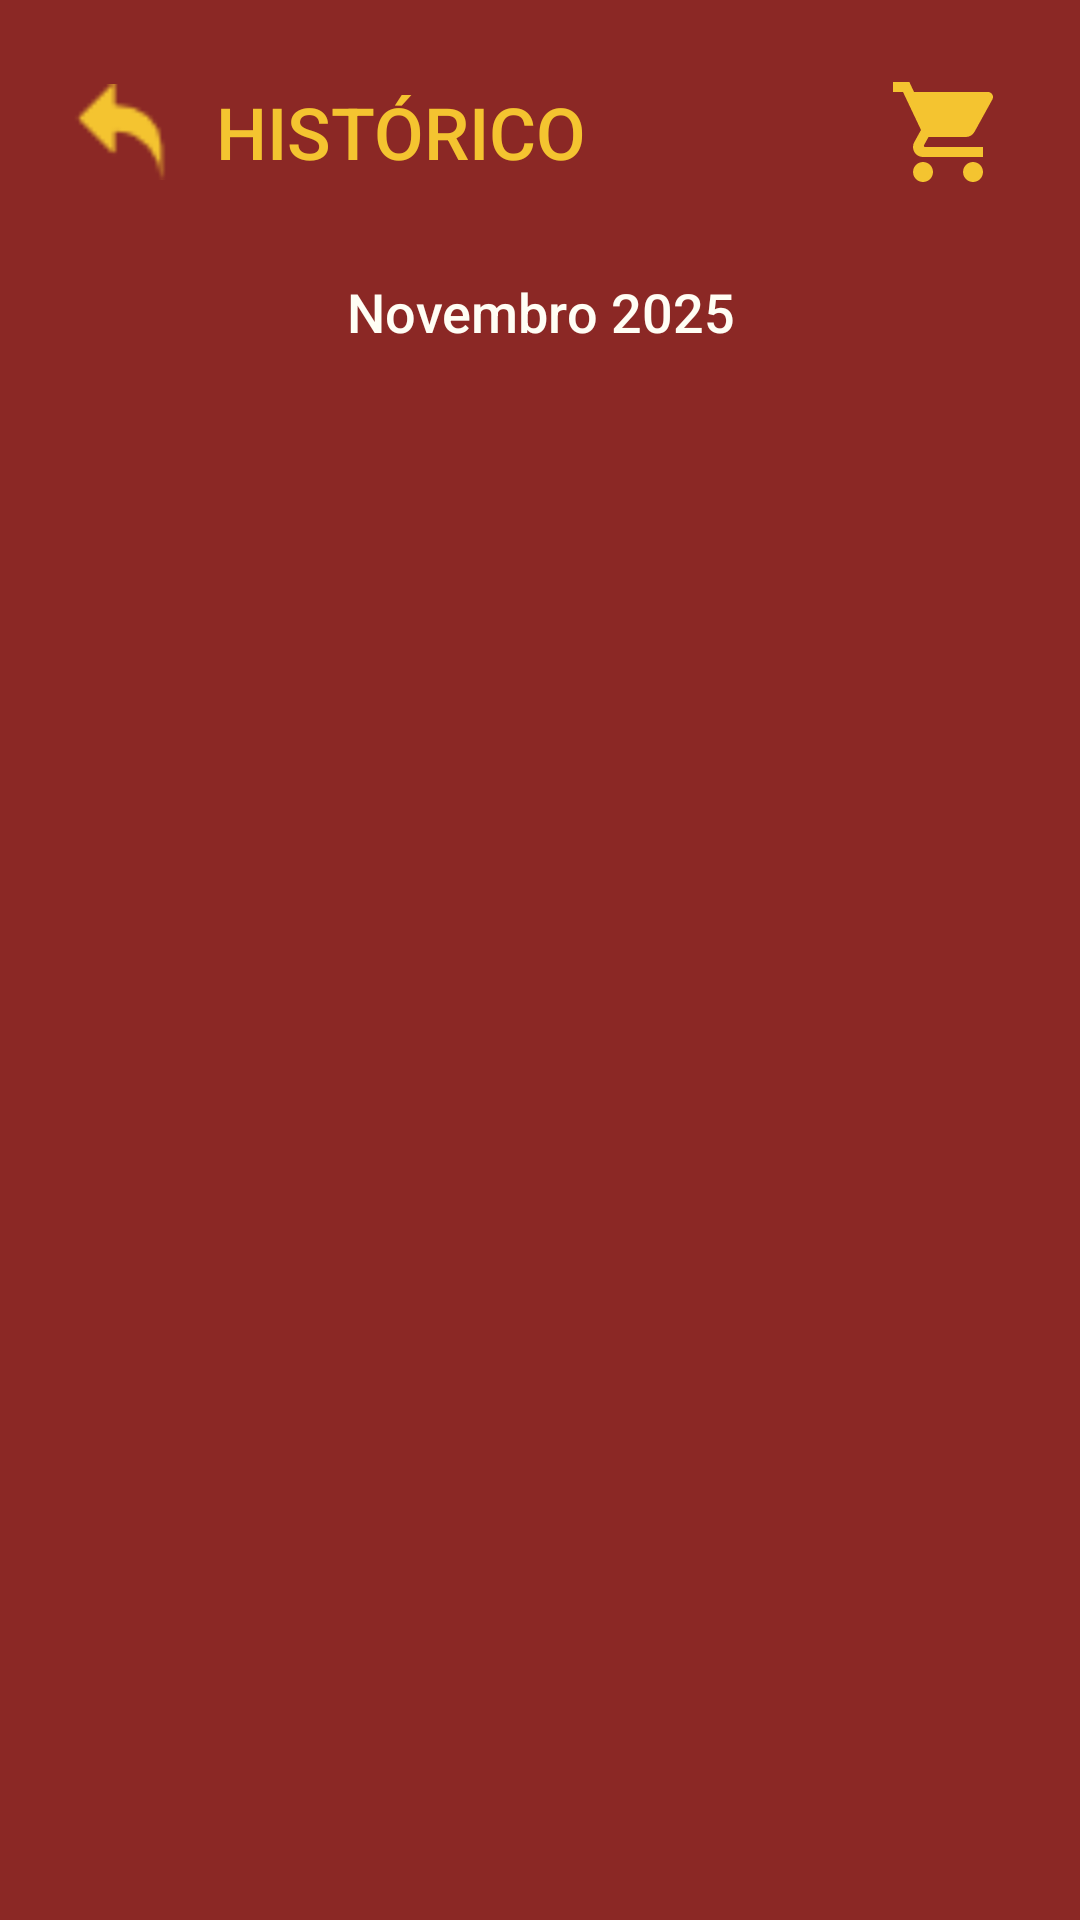

Icons on this 1080 × 1920 Android screen, each with its box as {"x1": x1, "y1": y1, "x2": x2, "y2": y2}:
Carrinho: {"x1": 893, "y1": 82, "x2": 993, "y2": 182}
Voltar: {"x1": 78, "y1": 84, "x2": 164, "y2": 176}
